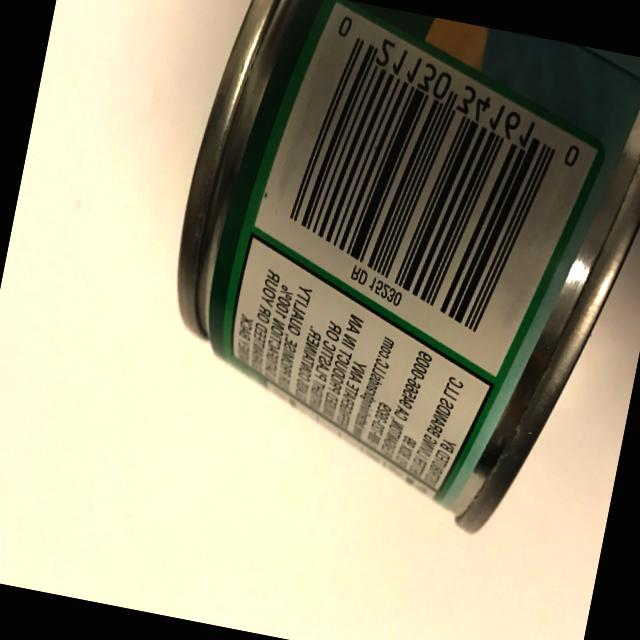Metal: (126, 0, 640, 589)
